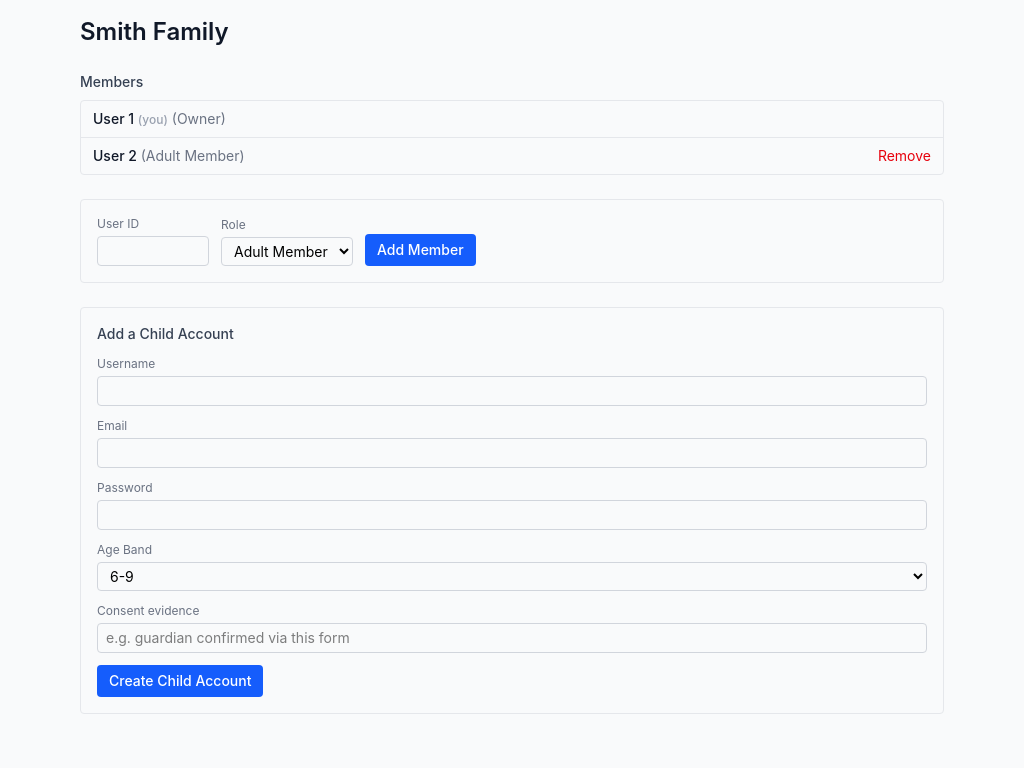
Test: HouseholdDetailPage › lets the owner add a member
This screenshot has width=1024, height=768.
Expected: the heading "Smith Family" is shown, [80,17,229,46]
Type "3" into the number field labelled "User ID" at x=153, y=251, box [97,236,209,266]
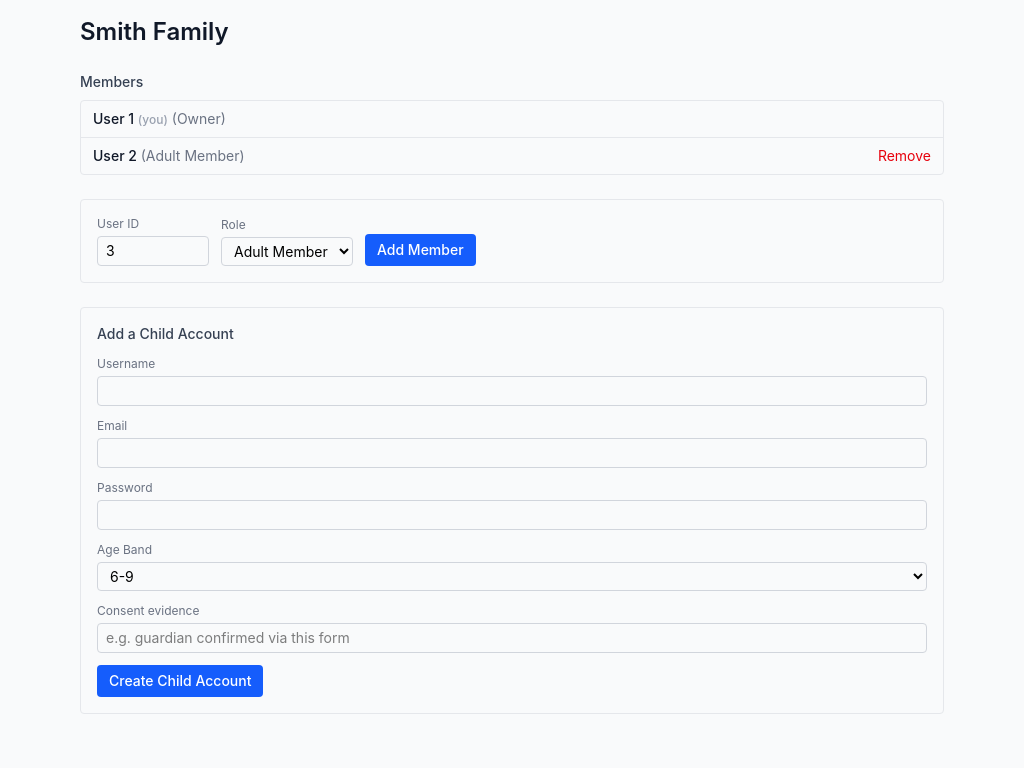
Click the button "Add Member" at x=420, y=250, box [365,234,476,266]
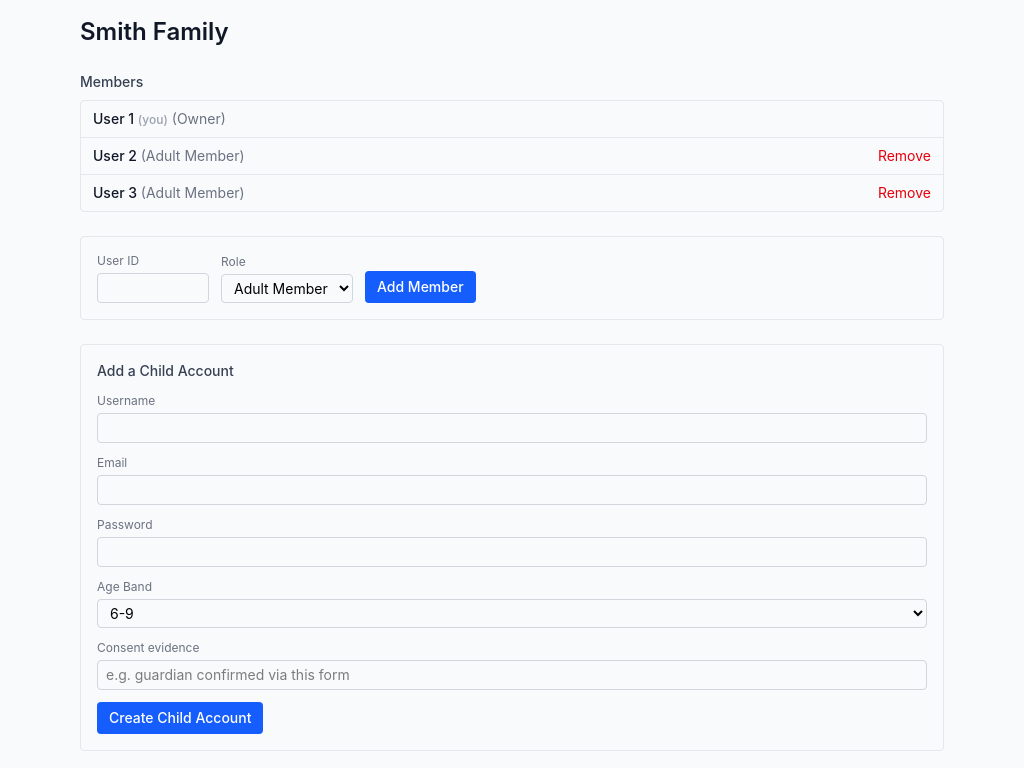
Result: the text "User 3" is shown at [93,184,141,201]
